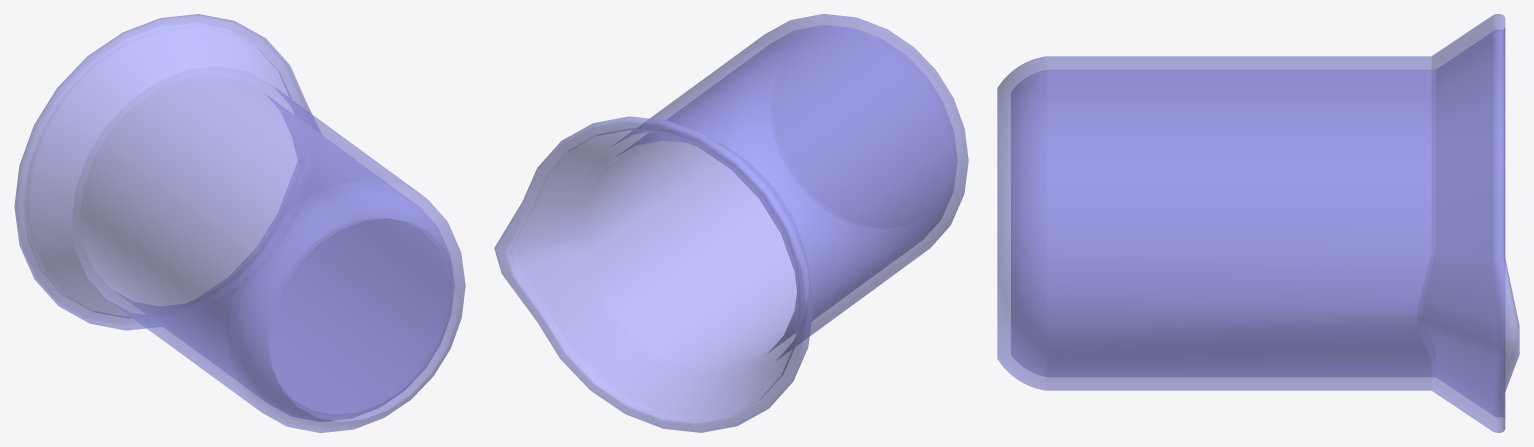
File: becher.gltf
The picture shows the model from 3 angles, left to right: view 1: azimuth 30°, elevation 25°; view 2: azimuth 150°, elevation 25°; view 3: azimuth 270°, elevation 25°; orthographic projection. The views are drawn at different scales.
Parts seen in each view (by area): view 1: root; view 2: root; view 3: root.
Boxes of the visible parts, bbox=[...] form: root: bbox=[14, 14, 465, 432]; root: bbox=[494, 14, 968, 432]; root: bbox=[997, 14, 1519, 432].
Size of the model in its own units: 3.32 by 3.13 by 3.88.
